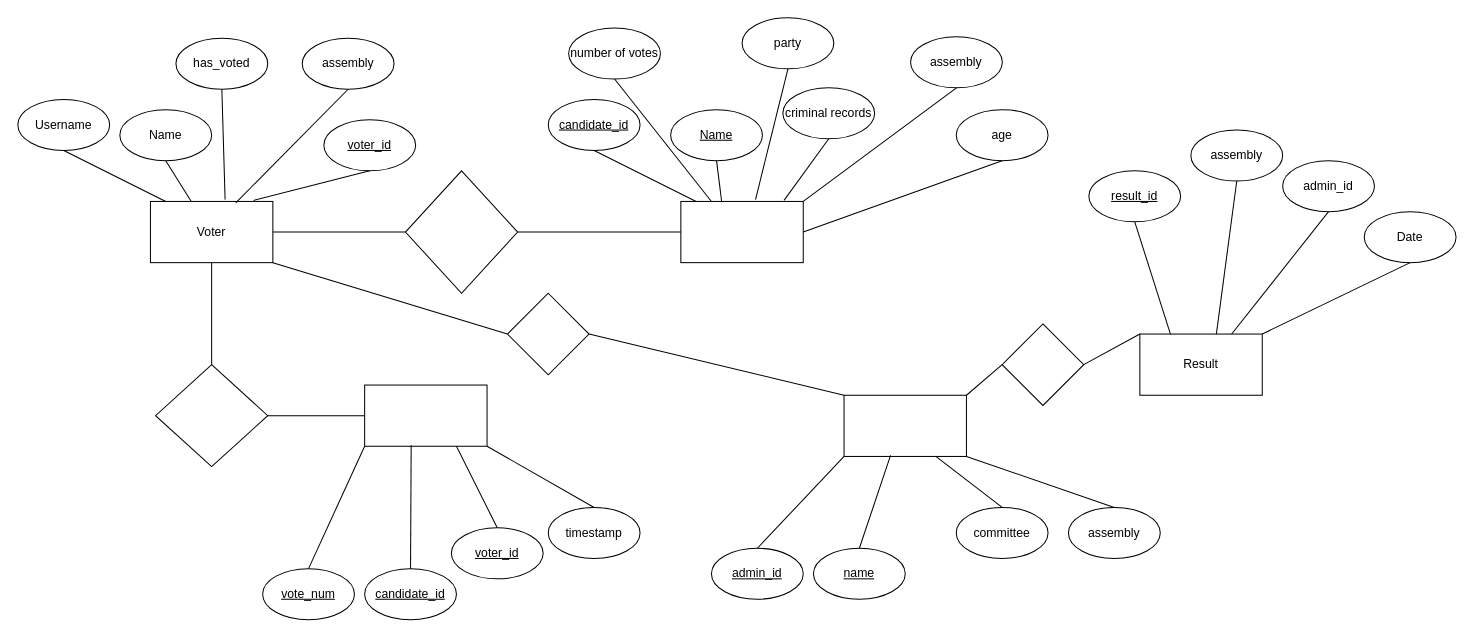
Some shapes in this 1474 by 638 pixel diagram are drawn without their labels. Here are the shapes that lost their labels. From the top down, the centre of each, then its label:
point 461,231: Votes for
point 741,231: Candidate
point 547,333: verifies
point 1042,364: Publishes
point 211,415: Casts
point 425,415: Vote
point 904,425: Administrator
